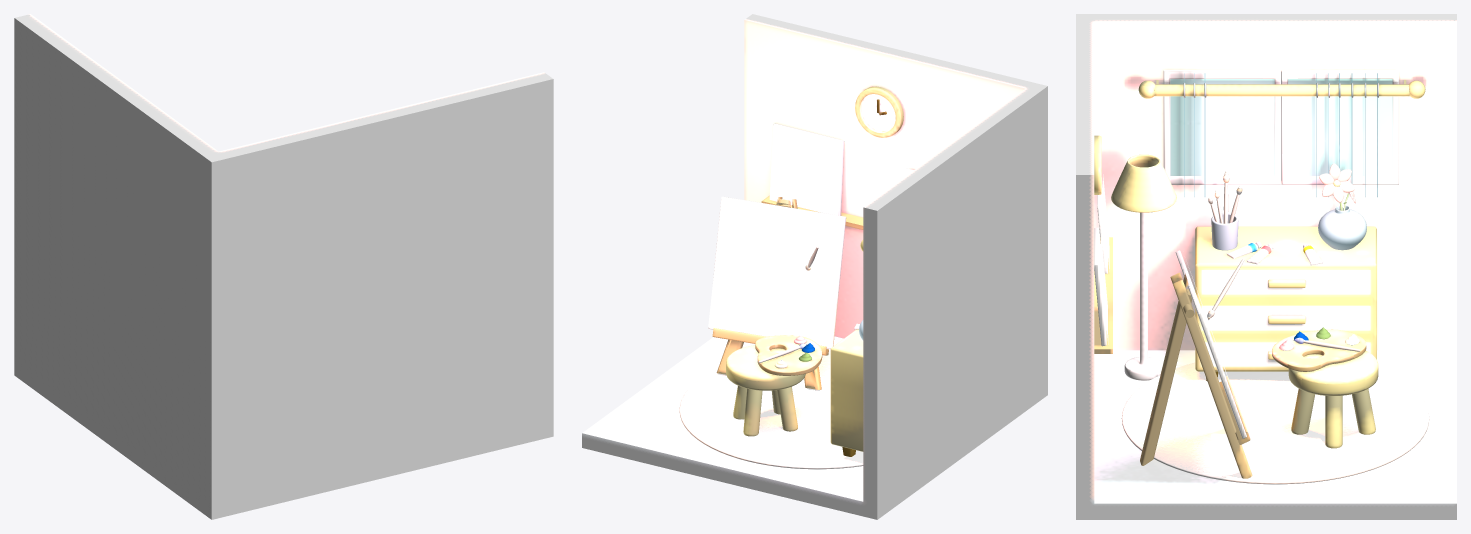
Rendered from room_painting_with_frame.gltf.
3 renders of one model, left to right at view 1: azimuth 30°, elevation 25°; view 2: azimuth 150°, elevation 25°; view 3: azimuth 270°, elevation 25°, orthographic. The views are drawn at different scales.
Visible parts, largest first — view 1: room'.1; view 2: room'.1, oo.5, Cylinder.4, Cube-Mat.4, oo.4, Cube-Mat.1, Color-Mat.14, Cube-Mat.2; view 3: room'.1, Cube-Mat.4 (×3), Cylinder.4, Color-Mat.15, Cube-Mat.2 (×2), Color-Mat.14, Cube-Mat.1 (×2), Cylinder.1 (×2), Cube-Mat.11, Cube-Mat.12.
Part boxes in pixels (bbox=[...]): room'.1: bbox=[14, 14, 553, 519]; room'.1: bbox=[582, 14, 1047, 519]; oo.5: bbox=[708, 198, 843, 346]; Cylinder.4: bbox=[679, 351, 863, 469]; Cube-Mat.4: bbox=[726, 86, 903, 451]; oo.4: bbox=[769, 125, 841, 215]; Cube-Mat.1: bbox=[712, 197, 828, 389]; Color-Mat.14: bbox=[708, 123, 913, 348]; Cube-Mat.2: bbox=[861, 94, 895, 131]; room'.1: bbox=[1076, 14, 1456, 519]; Cube-Mat.4 (×3): bbox=[1094, 80, 1425, 448]; Cylinder.4: bbox=[1121, 362, 1429, 484]; Color-Mat.15: bbox=[1170, 79, 1392, 175]; Cube-Mat.2 (×2): bbox=[1201, 270, 1370, 366]; Color-Mat.14: bbox=[1094, 70, 1398, 438]; Cube-Mat.1 (×2): bbox=[1094, 237, 1366, 478]; Cylinder.1 (×2): bbox=[1211, 205, 1366, 250]; Cube-Mat.11: bbox=[1124, 212, 1162, 380]; Cube-Mat.12: bbox=[1184, 73, 1377, 196].
Size of what is drawn, in the model's own units: 10.5 by 10.5 by 10.5.
